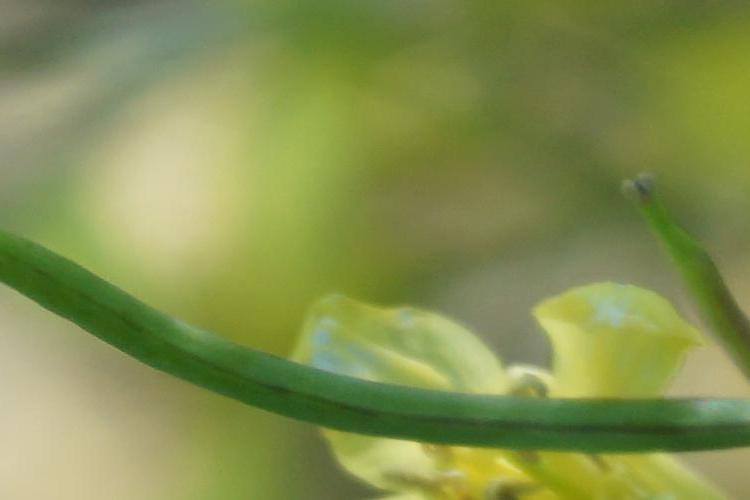pod: (602, 160, 741, 350)
yellow: (299, 277, 689, 500)
